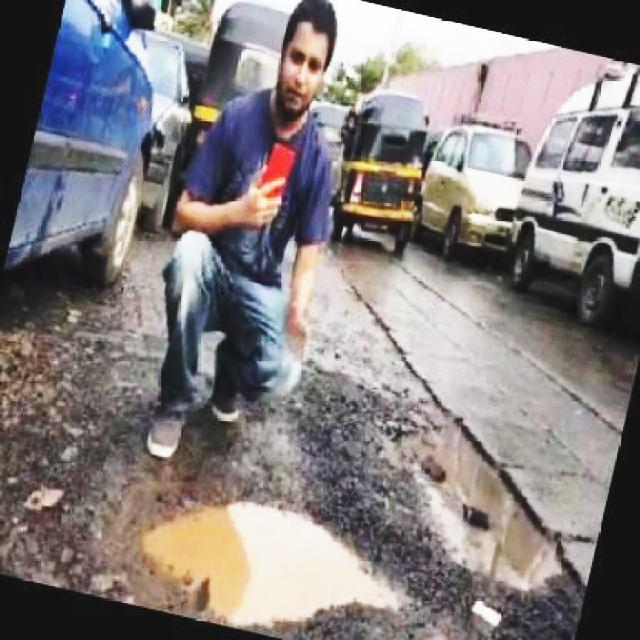pothole: (131, 482, 403, 632), (396, 403, 566, 592)
